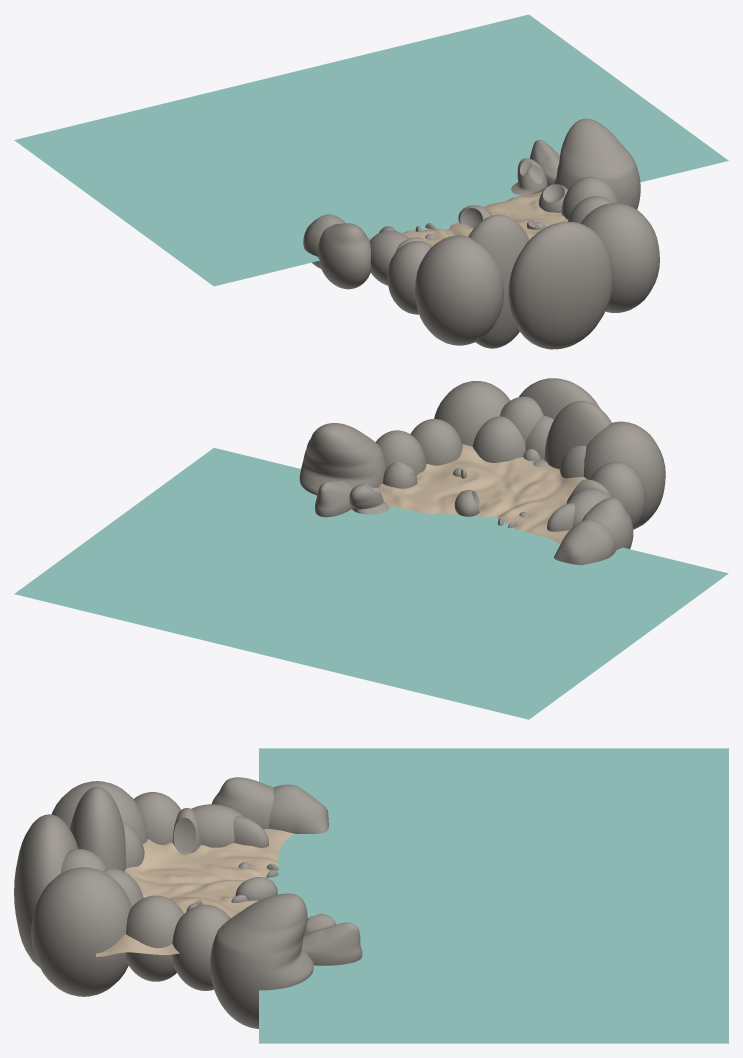
The model's file is BeachConcept-01.fbx.
3 renders of one model, top to bottom at view 1: azimuth 30°, elevation 25°; view 2: azimuth 150°, elevation 25°; view 3: azimuth 270°, elevation 25°, orthographic. The views are drawn at different scales.
Parts seen in each view (by area): view 1: pasted__pPlane1, pasted__pasted__pSphere1 (×3), pasted__pSphere1 (×3), pSphere1, pasted__pasted__pSphere8, pPlane1, pasted__pasted__pSphere3, pasted__pasted__pSphere5, polySurface4, pasted__pasted__pSphere7, pasted__pasted__pSphere11, polySurface2; view 2: pasted__pPlane1, pPlane1, pasted__pasted__pSphere1 (×4), pasted__pSphere1 (×3), pSphere1, pasted__pasted__pSphere7, pasted__pasted__pSphere3, pasted__pasted__pasted__pSphere1, pasted__pasted__pSphere8, pasted__pasted__pSphere11, pasted__pasted__pasted__pSphere2, polySurface4 (+5 smaller); view 3: pasted__pPlane1, pasted__pasted__pSphere1 (×4), pSphere1, pasted__pSphere1 (×3), pPlane1, pasted__pasted__pSphere7, pasted__pasted__pSphere11, pasted__pasted__pSphere8, pasted__pasted__pSphere3, pasted__pasted__pSphere5, polySurface6, pasted__pasted__pSphere25 (+3 smaller).
Part boxes in pixels (box(x1,y1,x2,y2)): pasted__pPlane1: box(14, 14, 728, 286); pasted__pasted__pSphere1 (×3): box(508, 118, 640, 349); pasted__pSphere1 (×3): box(415, 176, 619, 348); pSphere1: box(581, 203, 659, 312); pasted__pasted__pSphere8: box(318, 223, 370, 289); pPlane1: box(368, 186, 568, 245); pasted__pasted__pSphere3: box(387, 241, 432, 314); pasted__pasted__pSphere5: box(369, 230, 409, 285); polySurface4: box(511, 158, 547, 195); pasted__pasted__pSphere7: box(303, 214, 345, 268); pasted__pasted__pSphere11: box(529, 139, 559, 186); polySurface2: box(538, 184, 567, 212); pasted__pPlane1: box(14, 448, 728, 719); pPlane1: box(378, 444, 586, 544); pasted__pasted__pSphere1 (×4): box(299, 378, 599, 495); pasted__pSphere1 (×3): box(375, 401, 665, 529); pSphere1: box(434, 381, 510, 446); pasted__pasted__pSphere7: box(554, 519, 616, 565); pasted__pasted__pSphere3: box(590, 461, 645, 528); pasted__pasted__pasted__pSphere1: box(472, 416, 525, 462); pasted__pasted__pSphere8: box(582, 497, 633, 549); pasted__pasted__pSphere11: box(315, 480, 355, 517); pasted__pasted__pasted__pSphere2: box(500, 396, 543, 441); polySurface4: box(349, 483, 389, 514); pasted__pPlane1: box(259, 748, 728, 1043); pasted__pasted__pSphere1 (×4): box(14, 814, 313, 1028); pSphere1: box(31, 867, 131, 996); pasted__pSphere1 (×3): box(51, 781, 230, 990); pPlane1: box(96, 828, 294, 956); pasted__pasted__pSphere7: box(269, 784, 328, 833); pasted__pasted__pSphere11: box(302, 922, 362, 965); pasted__pasted__pSphere8: box(211, 777, 273, 829); pasted__pasted__pSphere3: box(134, 792, 180, 845); pasted__pasted__pSphere5: box(191, 804, 243, 847); polySurface6: box(172, 808, 200, 853); pasted__pasted__pSphere25: box(233, 816, 268, 847).
Size of the model in its own units: 162 by 39.58 by 166.
